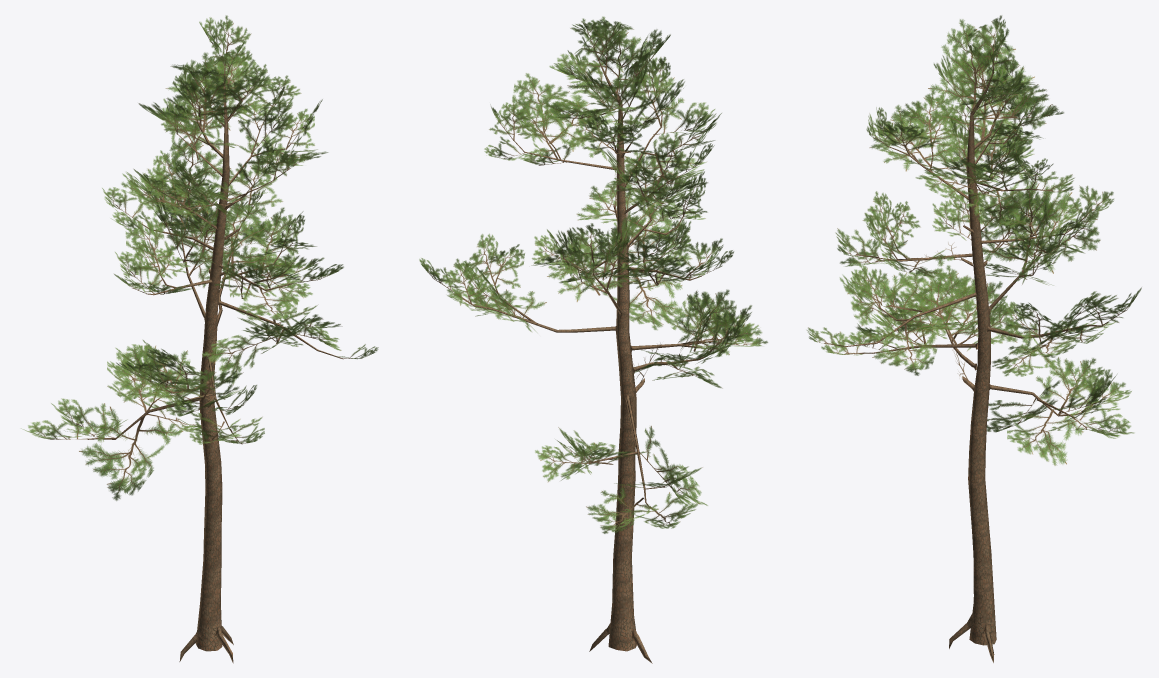
Rendered from pine_pine_big_1_lod2.gltf.
The picture shows the model from 3 angles, left to right: view 1: azimuth 30°, elevation 25°; view 2: azimuth 150°, elevation 25°; view 3: azimuth 270°, elevation 25°; orthographic projection. The views are drawn at different scales.
Parts seen in each view (by area): view 1: Pine_big_1_LOD2_Clusters_Mat_0, Pine_big_1_LOD2_Bark_Mat_0; view 2: Pine_big_1_LOD2_Clusters_Mat_0, Pine_big_1_LOD2_Bark_Mat_0; view 3: Pine_big_1_LOD2_Clusters_Mat_0, Pine_big_1_LOD2_Bark_Mat_0.
Boxes of the visible parts, bbox=[...] form: Pine_big_1_LOD2_Clusters_Mat_0: bbox=[21, 15, 378, 500]; Pine_big_1_LOD2_Bark_Mat_0: bbox=[87, 66, 343, 663]; Pine_big_1_LOD2_Clusters_Mat_0: bbox=[419, 16, 767, 533]; Pine_big_1_LOD2_Bark_Mat_0: bbox=[459, 60, 716, 663]; Pine_big_1_LOD2_Clusters_Mat_0: bbox=[807, 15, 1141, 465]; Pine_big_1_LOD2_Bark_Mat_0: bbox=[844, 72, 1108, 662].
Size of the model in its own units: 7.32 by 16.89 by 8.2.
Materials: 2 (2 with a texture image).
